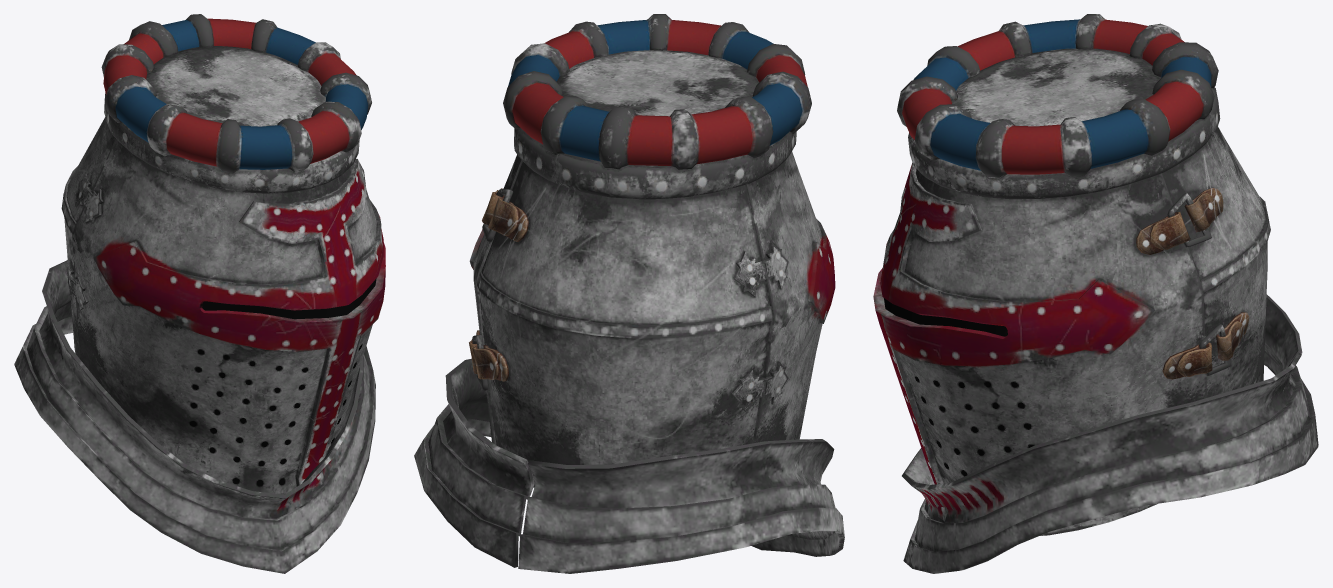
The model's file is knight_Helmet.obj.
3 views of the same model, side by side, from view 1: azimuth 30°, elevation 25°; view 2: azimuth 150°, elevation 25°; view 3: azimuth 270°, elevation 25° (orthographic). The views are drawn at different scales.
Parts seen in each view (by area): view 1: helmet_Cylinder.001; view 2: helmet_Cylinder.001; view 3: helmet_Cylinder.001.
Boxes of the visible parts, x1,y1,x2,y2 form: helmet_Cylinder.001: (14, 14, 385, 573); helmet_Cylinder.001: (414, 14, 844, 573); helmet_Cylinder.001: (873, 14, 1318, 573).
Size of the model in its own units: 0.8773 by 1.22 by 0.9585.
